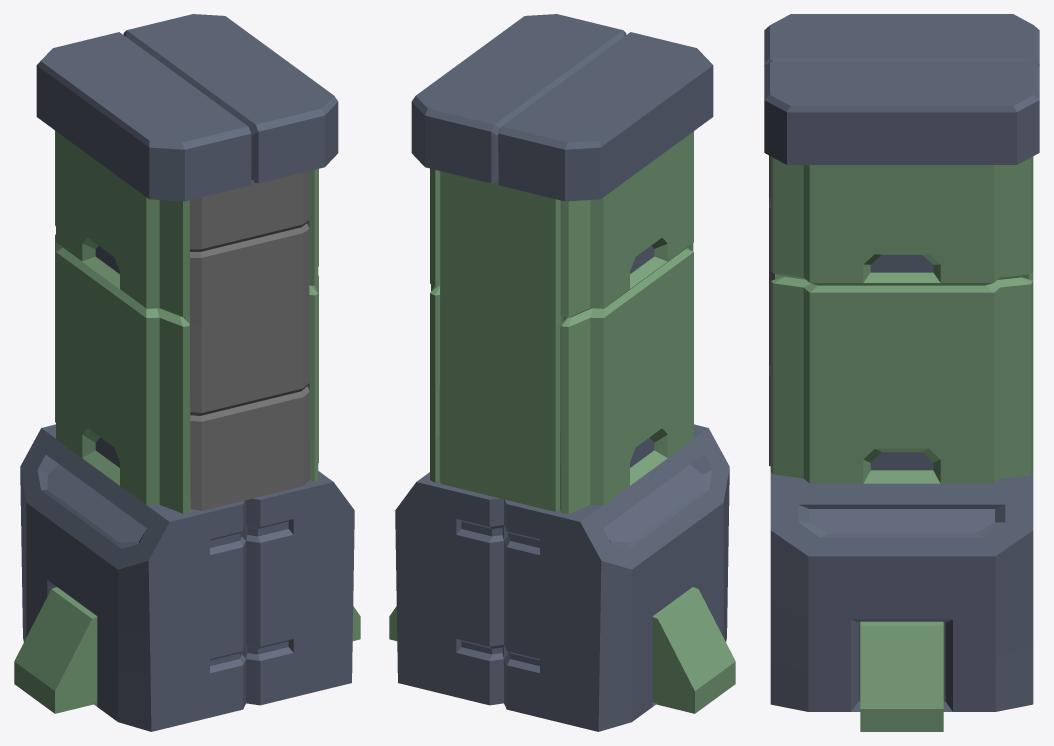
Rendered from Column.fbx.
3 views of the same model, side by side, from view 1: azimuth 30°, elevation 25°; view 2: azimuth 150°, elevation 25°; view 3: azimuth 270°, elevation 25° (orthographic). The views are drawn at different scales.
Parts seen in each view (by area): view 1: Cube.051; view 2: Cube.051; view 3: Cube.051.
Boxes of the visible parts, left/top/right/bottom form: Cube.051: left=14, top=14, right=360, bottom=731; Cube.051: left=389, top=14, right=735, bottom=731; Cube.051: left=764, top=14, right=1039, bottom=731.
Size of the model in its own units: 99.98 by 182 by 76.35.
